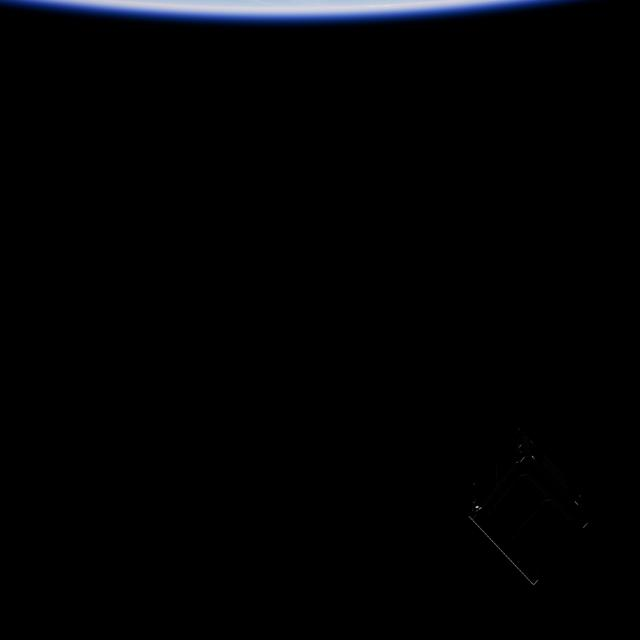medium_debris: (471, 438, 596, 589)
